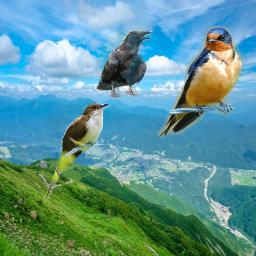Crow: (96, 30, 152, 98)
Cuckoo: (43, 102, 110, 201)
Swallow: (158, 26, 243, 138)
